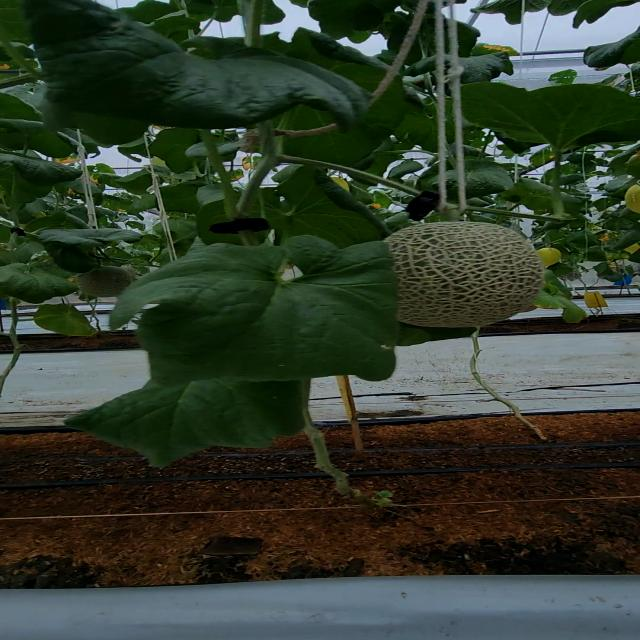Front-melon: (390, 220, 543, 327)
